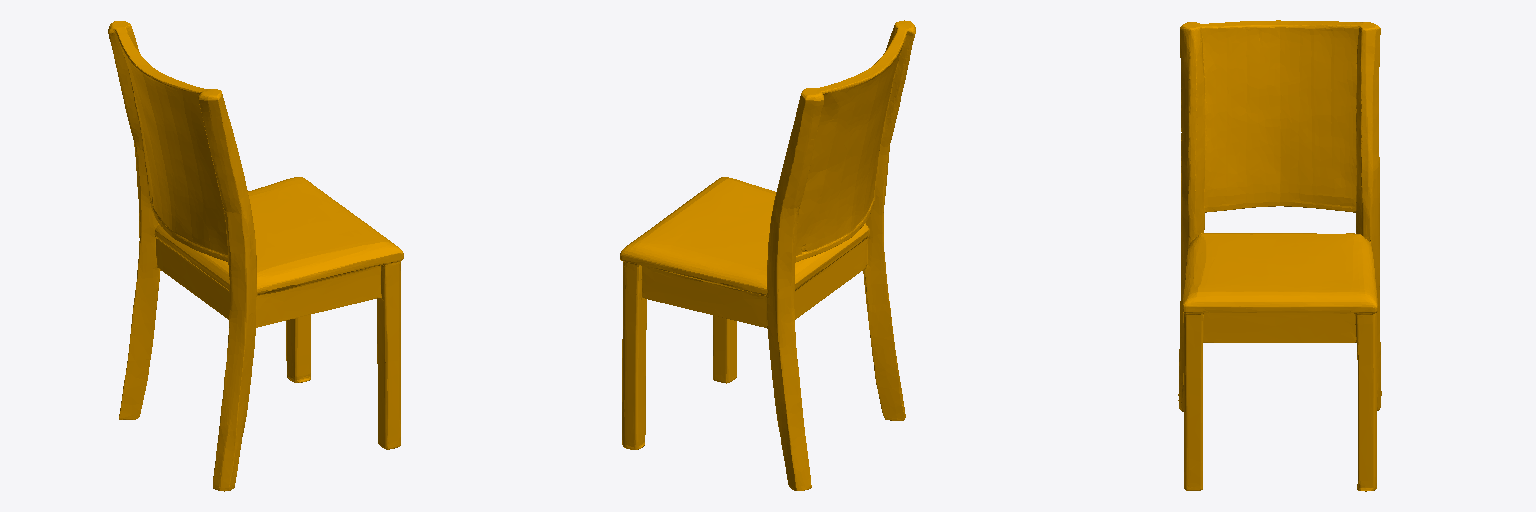
The robot description file, URDF, robot "dining_chair_8":
<?xml version="1.0" ?>
<robot name="dining_chair_8">
   <link name="dining_chair_8">
      <visual>
         <origin xyz="0 0 0" rpy="1.5708 0.0 0.0"/>
         <geometry>
            <mesh filename="mesh/dining_chair_8.obj" scale="1.0 1.0 1.0"/>
         </geometry>
      </visual>
      <collision>
         <origin xyz="0 0 0" rpy="1.5708 0.0 0.0"/>
         <geometry>
            <mesh filename="mesh/dining_chair_8_collision.obj" scale="1.0 1.0 1.0"/>
         </geometry>
         <gazebo>
            <mu1>0.60</mu1>
            <mu2>0.50</mu2>
         </gazebo>
      </collision>
      <inertial>
         <mass value="5.5000"/>
         <origin xyz="0 0 0"/>
         <inertia ixx="1.0" ixy="0.0" ixz="0.0" iyy="1.0" iyz="0.0" izz="1.0"/>
      </inertial>
      <extra_info>
         <scale>0.925000</scale>
         <version>v0.1.5</version>
         <category>dining_chair</category>
         <description>wooden dining chair with curved backrest and four straight legs</description>
         <min_height>0.85</min_height>
         <max_height>1.0</max_height>
         <real_height>0.925</real_height>
         <min_mass>4.5</min_mass>
         <max_mass>6.5</max_mass>
         <generate_time>20251021111902</generate_time>
         <gs_model>mesh/dining_chair_8_gs.ply</gs_model>
      </extra_info>
   </link>
   <custom_data>
      <quality>
         <MeshGeoChecker>YES</MeshGeoChecker>
         <ImageSegChecker>YES</ImageSegChecker>
         <ImageAestheticChecker>4.718490242958069</ImageAestheticChecker>
         <overall>YES</overall>
      </quality>
   </custom_data>
</robot>

--- Render facts (derived) ---
3 views of the same robot in one strip: view 1: azimuth 30°, elevation 25°; view 2: azimuth 150°, elevation 25°; view 3: azimuth 270°, elevation 25° (orthographic).
Robot: dining_chair_8 — 1 links, 0 joints (none); root link dining_chair_8; default pose: all joints at 0.
Visible links, largest first — view 1: dining_chair_8; view 2: dining_chair_8; view 3: dining_chair_8.
Boxes of the visible links, x1=… form: dining_chair_8: x1=108, y1=21, x2=403, y2=491; dining_chair_8: x1=620, y1=20, x2=915, y2=490; dining_chair_8: x1=1178, y1=20, x2=1381, y2=491.
Size in the robot's own frame: 0.5166 by 0.4487 by 0.925 metres.
1 mesh visuals loaded from 1 distinct referenced files (1 OBJ).
